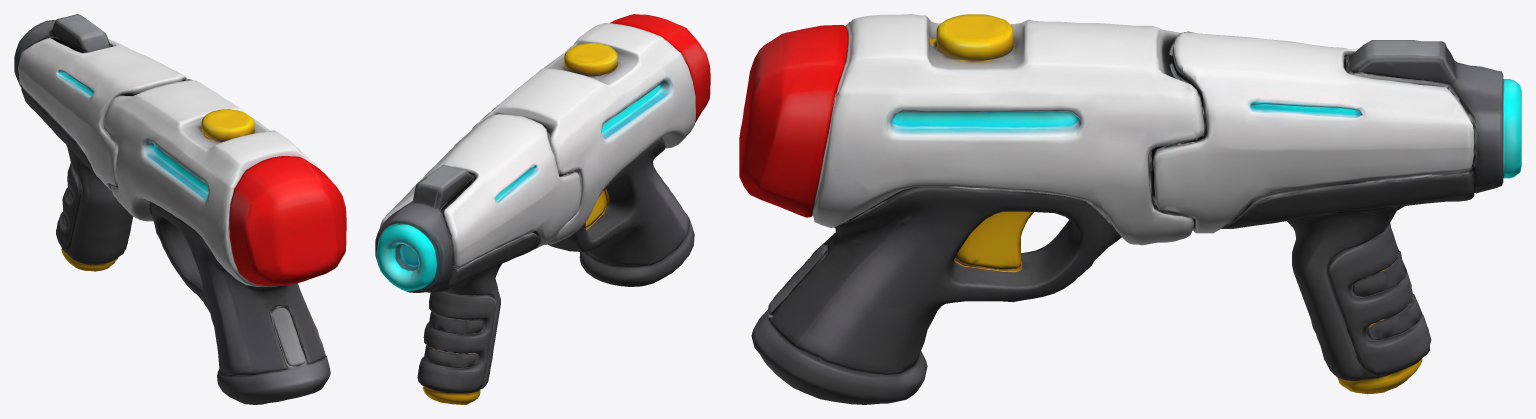
File: blaster.glb
3 renders of one model, left to right at view 1: azimuth 30°, elevation 25°; view 2: azimuth 150°, elevation 25°; view 3: azimuth 270°, elevation 25°, orthographic. The views are drawn at different scales.
Visible parts, largest first — view 1: rear, front; view 2: rear, front; view 3: rear, front.
Part boxes in pixels (x1=…): rear: x1=103, y1=76, x2=346, y2=404; front: x1=14, y1=14, x2=190, y2=271; rear: x1=472, y1=14, x2=710, y2=286; front: x1=375, y1=115, x2=581, y2=404; rear: x1=739, y1=14, x2=1206, y2=404; front: x1=1150, y1=31, x2=1521, y2=394.
Size of what is drawn, in the model's own units: 0.0966 by 0.2068 by 0.408.
Materials: 2 (1 with a texture image).
